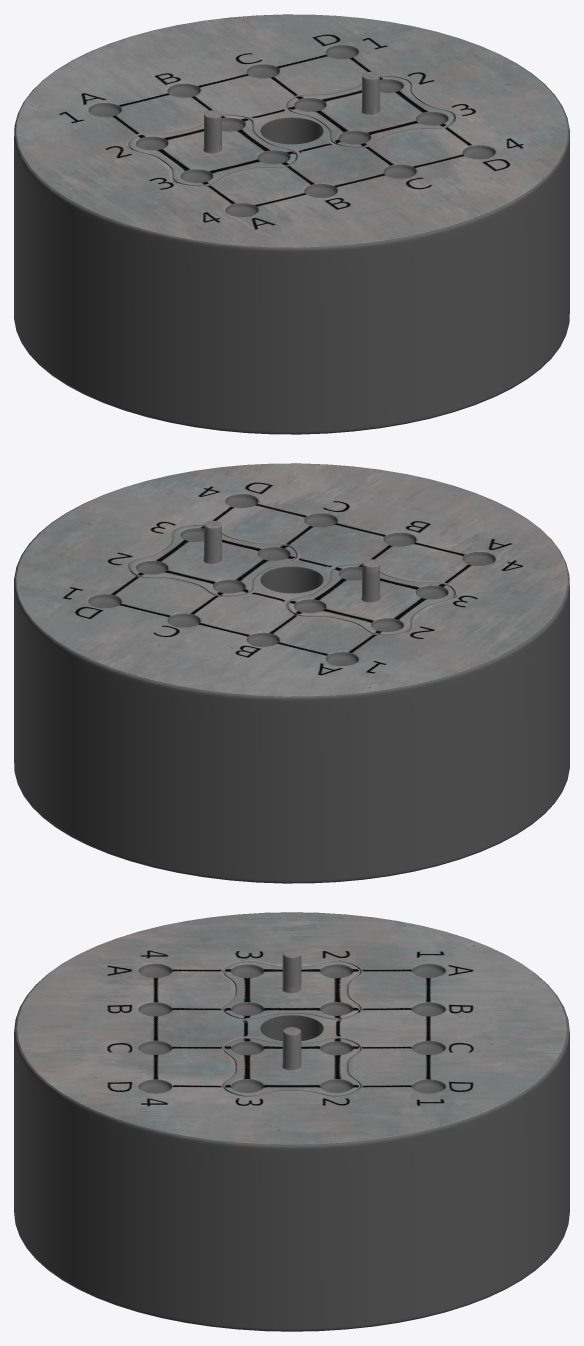
Rendered from gear_board_1.glb.
3 renders of one model, top to bottom at view 1: azimuth 30°, elevation 25°; view 2: azimuth 150°, elevation 25°; view 3: azimuth 270°, elevation 25°, orthographic.
Visible parts, largest first — view 1: board, pop_out_piece_1, pop_out_piece_2; view 2: board, pop_out_piece_1, pop_out_piece_2; view 3: board, pop_out_piece_2, pop_out_piece_1.
Boxes of the visible parts, left/top/right/bottom form: board: left=14, top=14, right=569, bottom=434; pop_out_piece_1: left=130, top=110, right=295, bottom=186; pop_out_piece_2: left=288, top=71, right=453, bottom=147; board: left=14, top=463, right=569, bottom=883; pop_out_piece_1: left=288, top=559, right=453, bottom=635; pop_out_piece_2: left=130, top=520, right=295, bottom=596; board: left=14, top=912, right=569, bottom=1331; pop_out_piece_2: left=224, top=1027, right=359, bottom=1096; pop_out_piece_1: left=224, top=950, right=359, bottom=1019.
Bounding box in the file's own units: 3.05 × 1.35 × 3.05.
Materials: 4 (2 with a texture image).
